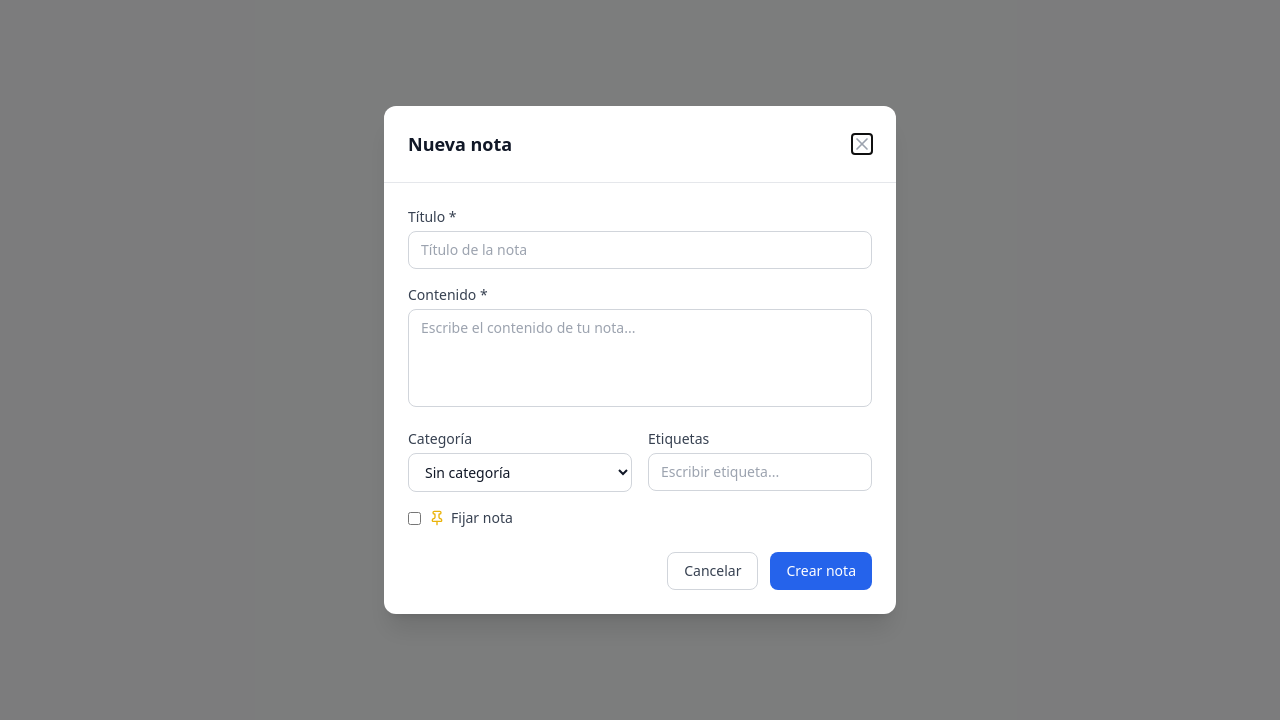
NoteModal — Etiquetas › clic en la "x" de una etiqueta la elimina
Type "temp" into the field with placeholder "Escribir etiqueta..." at (760, 472), box [661,462,859,482]
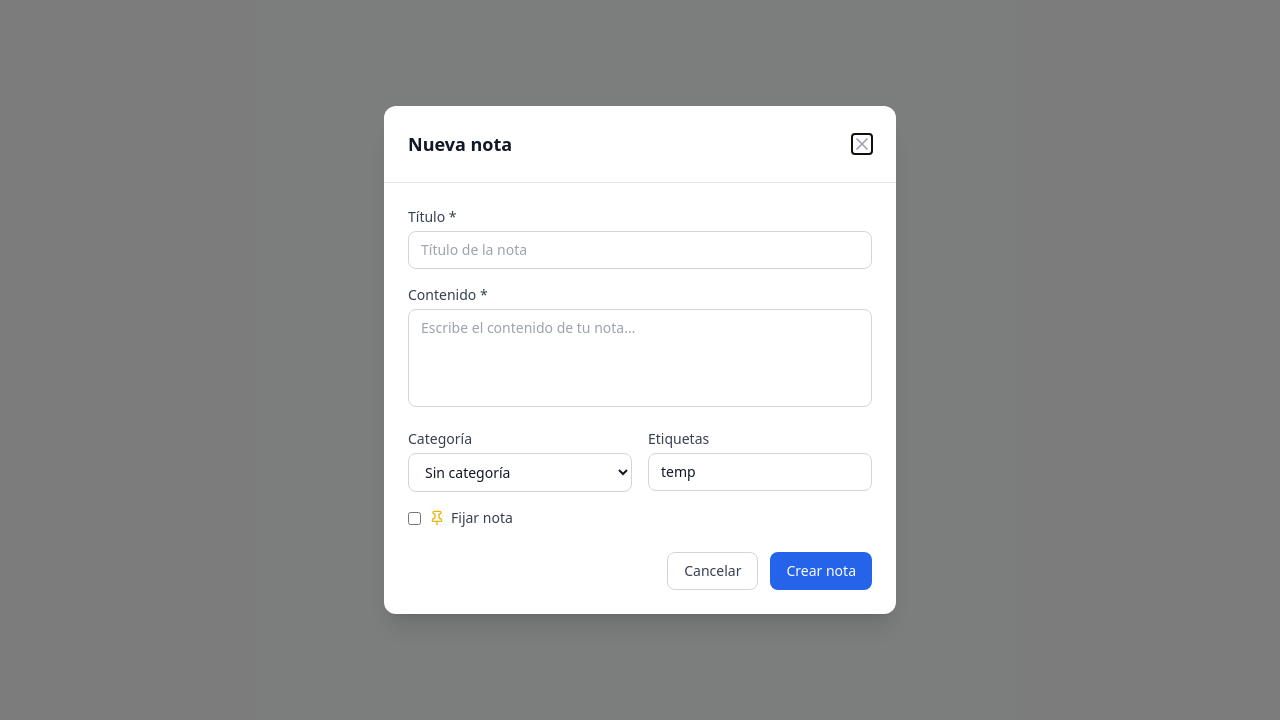
Press Enter in the field with placeholder "Escribir etiqueta...", box [661,462,859,482]
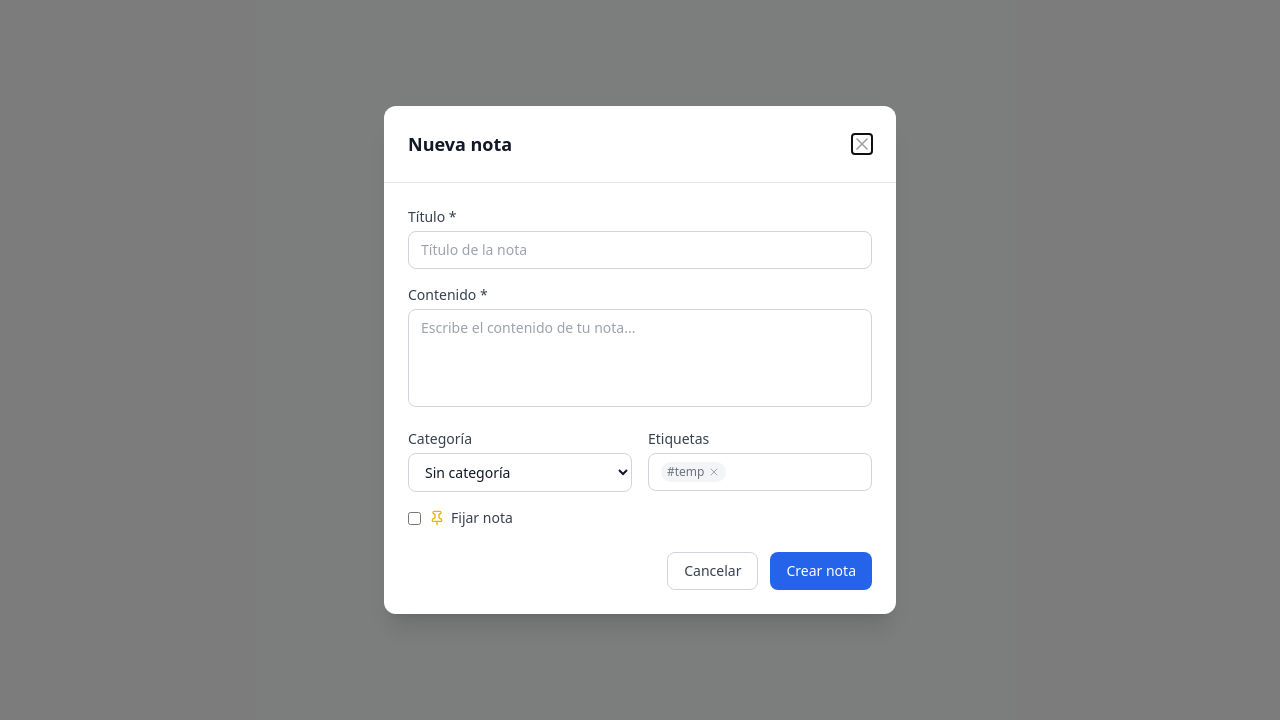
Click the button named "Quitar etiqueta temp" at (714, 472), box [708,466,720,478]
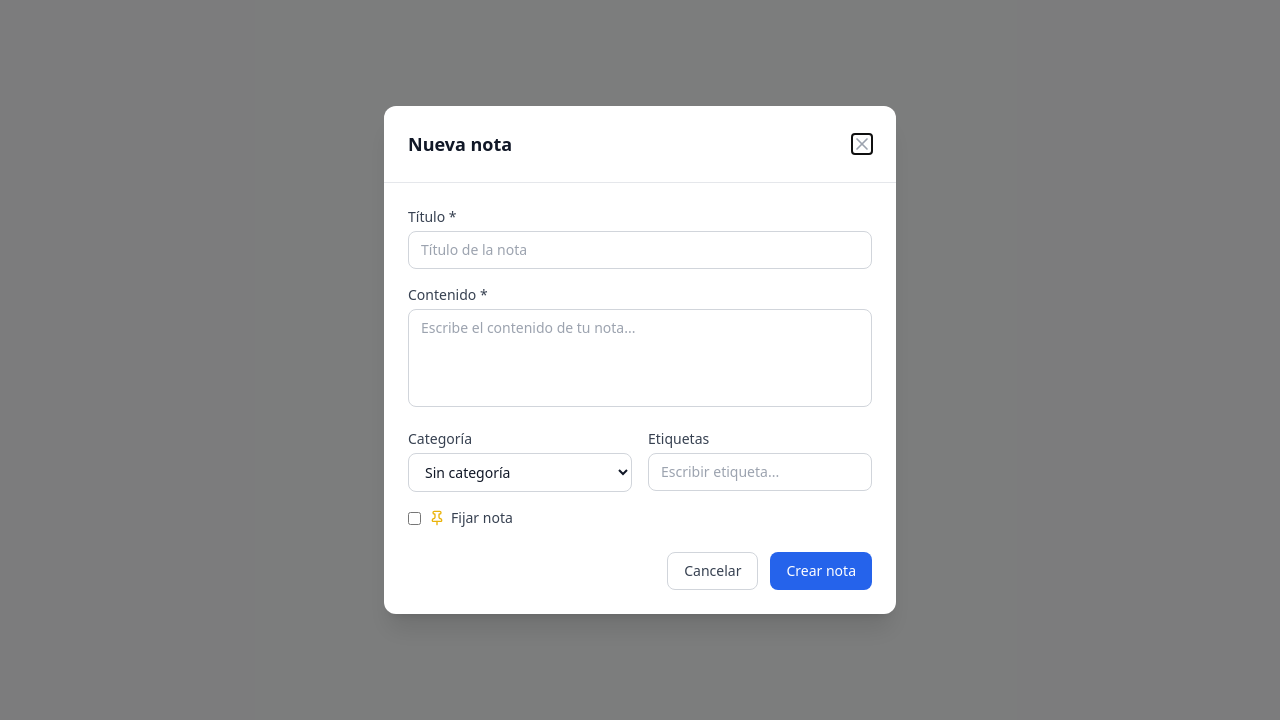
Expected: the text "#temp" is gone
